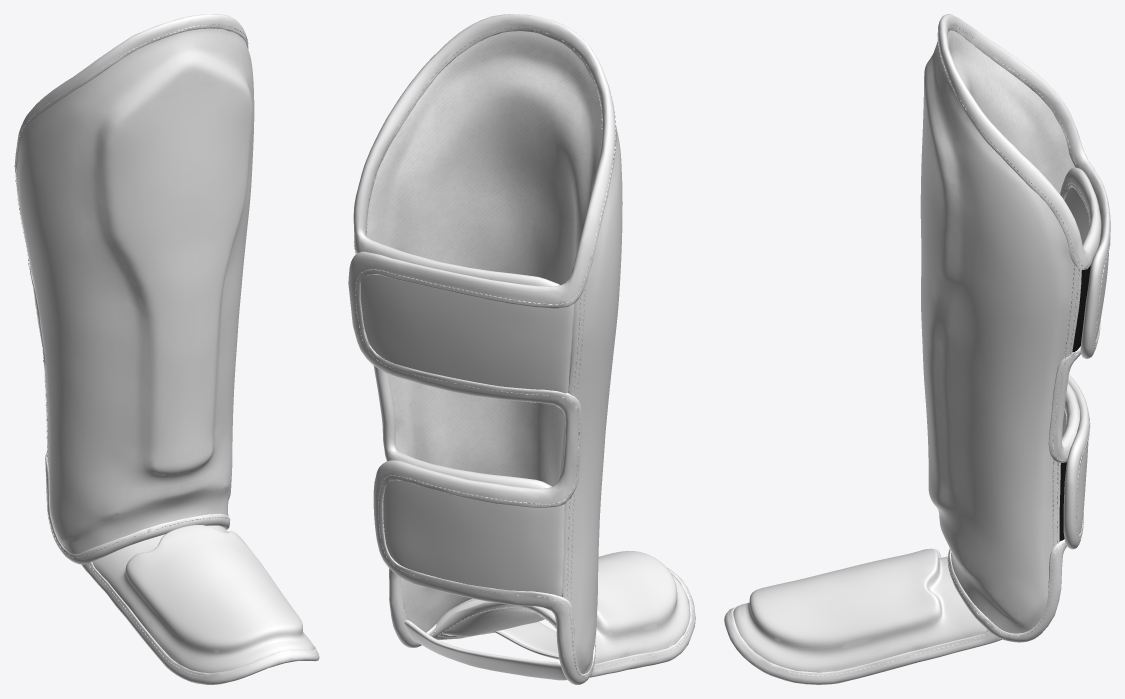
Rendered from fm-shinguard.glb.
The picture shows the model from 3 angles, left to right: view 1: azimuth 30°, elevation 25°; view 2: azimuth 150°, elevation 25°; view 3: azimuth 270°, elevation 25°; orthographic projection. The views are drawn at different scales.
Parts seen in each view (by area): view 1: Main_Front, Foot_Front, Piping, Stitches; view 2: Main_Back, Piping, Strap_upper, Strap_bottom, Main_Front, Foot_Front, Elastic_heel, Stitches, Foot_Back, Elastic_foot; view 3: Main_Front, Piping, Foot_Front, Main_Back, Stitches, Strapinner_upper, Velcro_3.
Boxes of the visible parts, <box> form: Main_Front: <box>16,15,254,562</box>; Foot_Front: <box>92,525,314,672</box>; Piping: <box>15,14,319,684</box>; Stitches: <box>14,24,248,676</box>; Main_Back: <box>366,31,602,683</box>; Piping: <box>348,14,695,684</box>; Strap_upper: <box>360,274,574,393</box>; Strap_bottom: <box>382,480,564,596</box>; Main_Front: <box>562,50,622,674</box>; Foot_Front: <box>594,551,689,664</box>; Elastic_heel: <box>404,619,566,680</box>; Stitches: <box>354,27,692,677</box>; Foot_Back: <box>443,607,545,636</box>; Elastic_foot: <box>494,621,559,659</box>; Main_Front: <box>920,41,1081,633</box>; Piping: <box>724,14,1110,684</box>; Foot_Front: <box>733,548,987,672</box>; Main_Back: <box>948,30,1075,193</box>; Stitches: <box>745,26,1110,676</box>; Strapinner_upper: <box>1064,187,1089,244</box>; Velcro_3: <box>1072,265,1090,352</box>.
Bounding box in the file's own units: 0.2138 × 0.5726 × 0.3167.
1 material, 1 textured.
